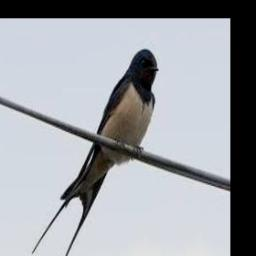Swallow: (32, 49, 159, 256)
